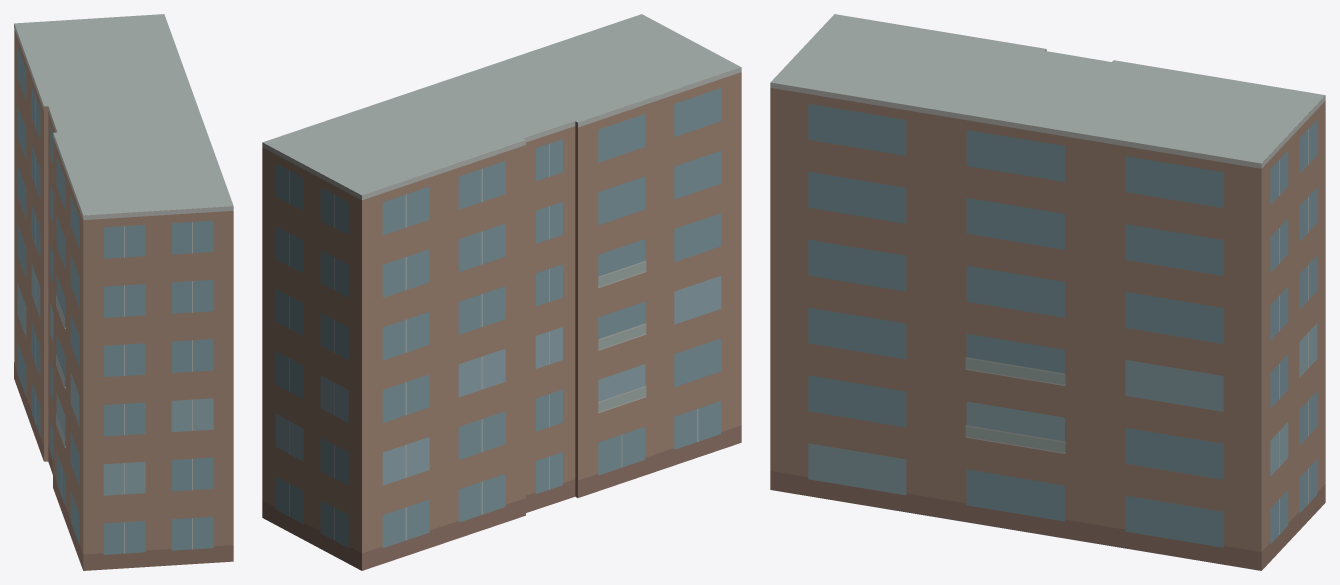
File: survey-upis-32577980.glb
The picture shows the model from 3 angles, left to right: view 1: azimuth 30°, elevation 25°; view 2: azimuth 150°, elevation 25°; view 3: azimuth 270°, elevation 25°; orthographic projection. The views are drawn at different scales.
Parts seen in each view (by area): view 1: survey-upis-32577980.tmp; view 2: survey-upis-32577980.tmp; view 3: survey-upis-32577980.tmp.
Part boxes in pixels (<box>): survey-upis-32577980.tmp: <box>14,14,233,570</box>; survey-upis-32577980.tmp: <box>262,14,741,570</box>; survey-upis-32577980.tmp: <box>770,14,1325,570</box>.
Size of the model in its own units: 14.81 by 18.8 by 23.24.
